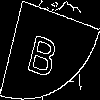B: (25, 24, 63, 79)
